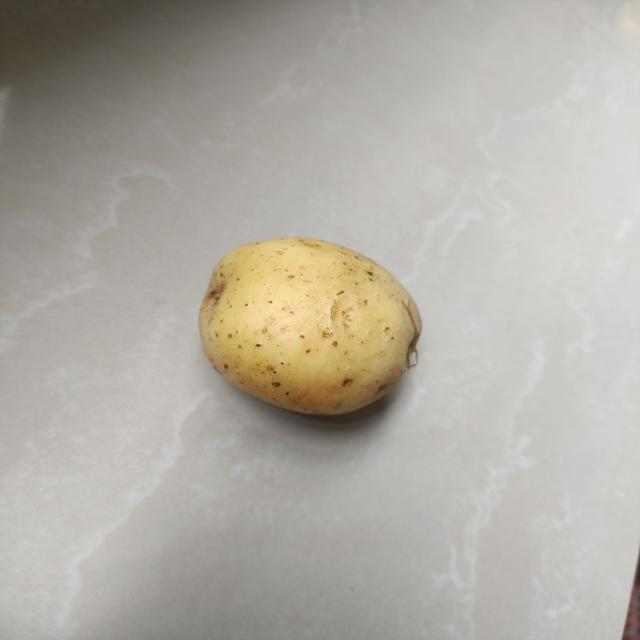potato: (195, 233, 425, 420)
